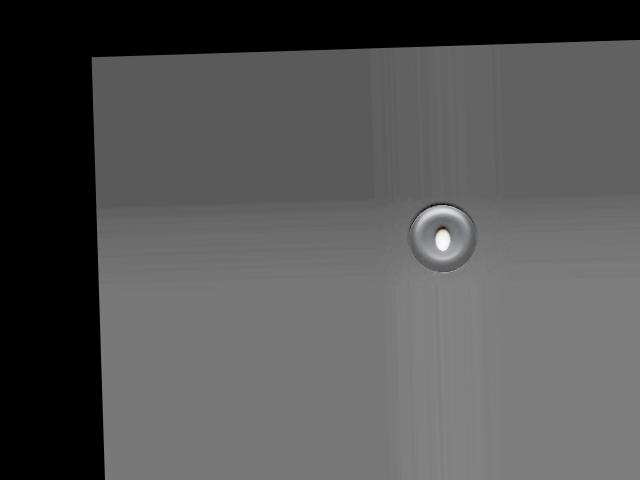egg: (435, 228, 451, 250)
